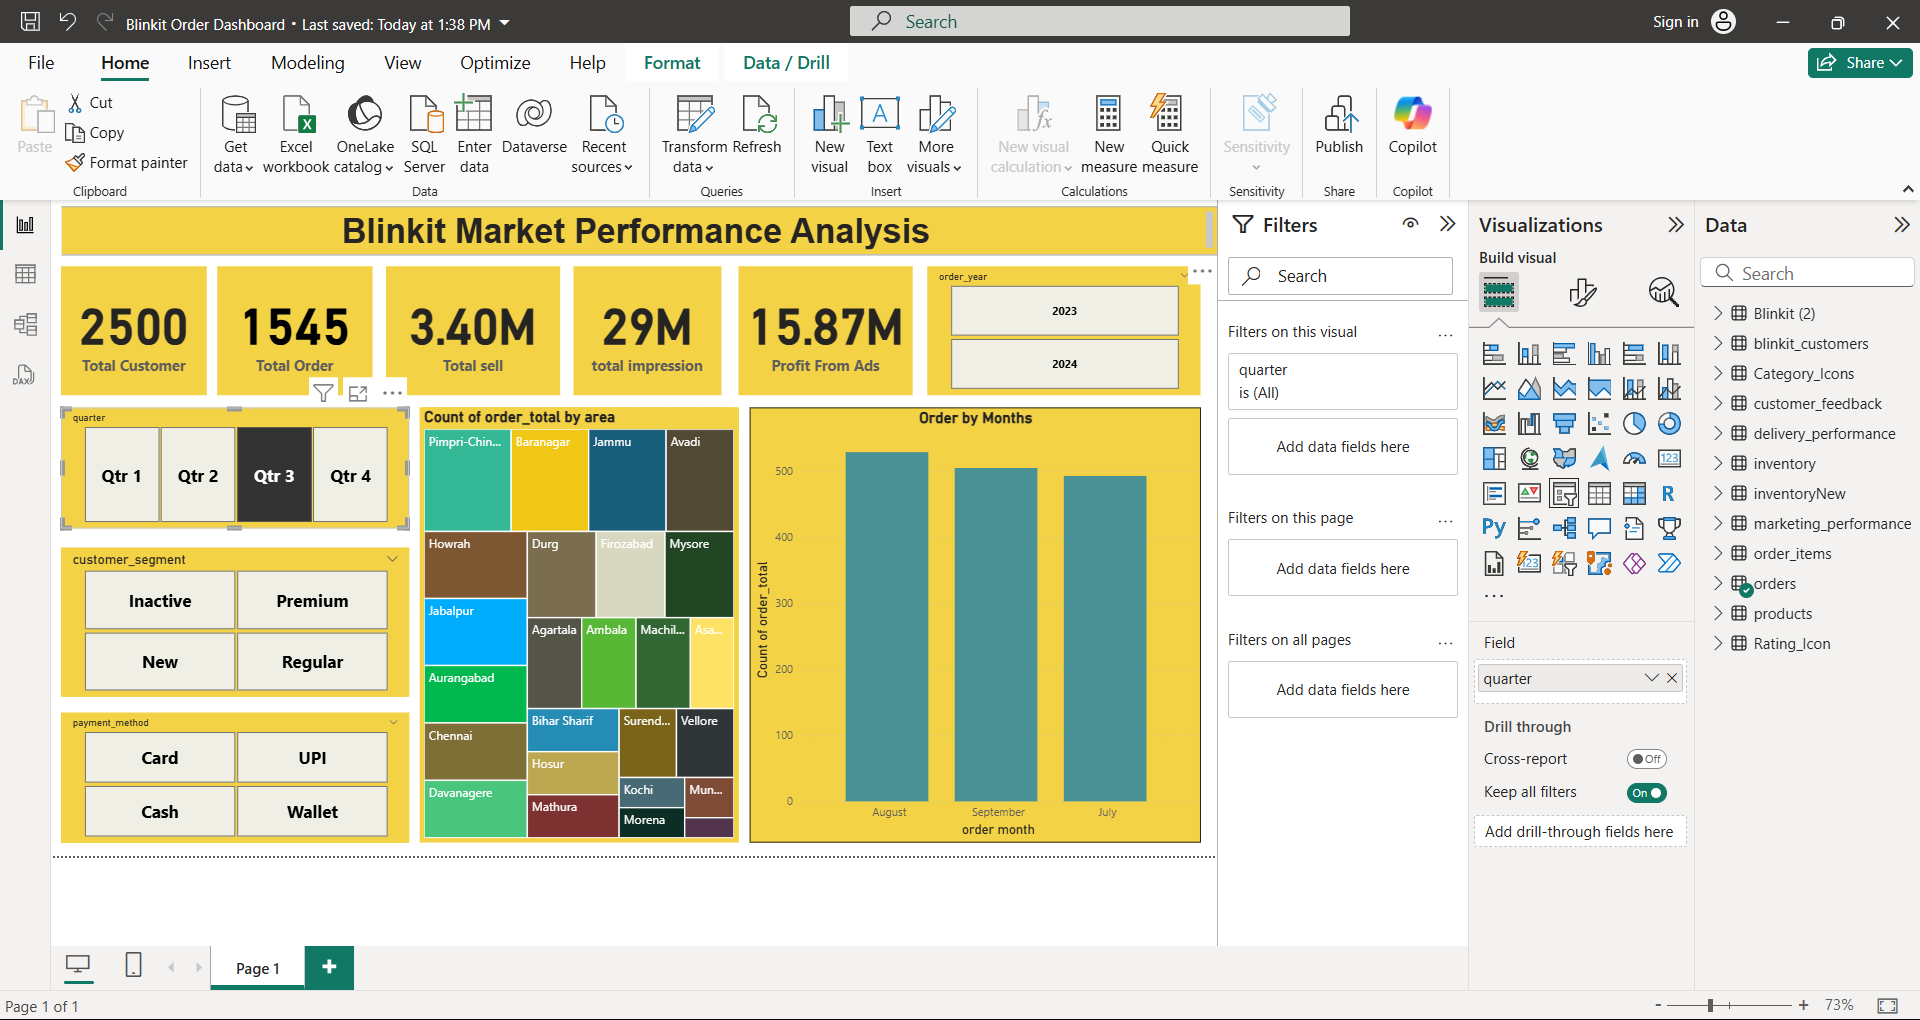

Layout of this report page (visuals, bound fields, positions):
{"tool":"powerbi","page":{"name":"Page 1","canvas":[1280,720],"ordinal":0},"visuals":[{"type":"card","fields":{"Values":["Count(blinkit_customers.customer_id)"]},"box":[10.3,72.4,160.3,141.4],"z":0},{"type":"card","fields":{"Values":["Count(orders.order_id)"]},"box":[182.8,72.4,170.7,141.4],"z":1000},{"type":"slicer","fields":{"Values":["blinkit_customers.customer_segment"]},"box":[10.3,381,382.8,163.8],"z":2000},{"type":"card","fields":{"Values":["marketing_performance.AdTotalProfit"]},"box":[755.2,72.4,191.4,141.4],"z":3000},{"type":"slicer","fields":{"Values":["orders.order_year"]},"box":[962.1,72.4,300,141.4],"z":4000},{"type":"card","fields":{"Values":["Sum(orders.order_total)"]},"box":[367.2,72.4,191.4,141.4],"z":5000},{"type":"slicer","fields":{"Values":["orders.payment_method"]},"box":[10.3,562.1,382.8,143.1],"z":6000},{"type":"slicer","fields":{"Values":["orders.quarter"]},"box":[10.3,227.6,382.8,132.8],"z":7000},{"type":"treemap","fields":{"Group":["blinkit_customers.area"],"Values":["CountNonNull(orders.order_total)"]},"box":[405.2,227.6,350,477.6],"z":8000},{"type":"card","fields":{"Values":["marketing_performance.total impression"]},"box":[574.1,72.4,162.1,141.4],"z":9000},{"type":"textbox","box":[10.3,6.9,1270.7,53.4],"z":10000},{"type":"lineStackedColumnComboChart","title":"Order by Months","fields":{"Category":["orders.order month"],"Y":["Count(orders.order_total)"]},"box":[767.2,227.6,494.8,477.6],"z":11000}]}

Visuals, with their boxes on the page's 1280x720 design canvas (x1, y1, x2, y2). These are canvas units, not pixel positions in the 1920x1020 screenshot, which may show the page scaled, cropped or inside an application window:
card - Count(blinkit_customers.customer_id): <box>10,72,171,214</box>
card - Count(orders.order_id): <box>183,72,354,214</box>
slicer - blinkit_customers.customer_segment: <box>10,381,393,545</box>
card - marketing_performance.AdTotalProfit: <box>755,72,947,214</box>
slicer - orders.order_year: <box>962,72,1262,214</box>
card - Sum(orders.order_total): <box>367,72,559,214</box>
slicer - orders.payment_method: <box>10,562,393,705</box>
slicer - orders.quarter: <box>10,228,393,360</box>
treemap - blinkit_customers.area x CountNonNull(orders.order_total): <box>405,228,755,705</box>
card - marketing_performance.total impression: <box>574,72,736,214</box>
textbox: <box>10,7,1281,60</box>
"Order by Months" lineStackedColumnComboChart: <box>767,228,1262,705</box>
